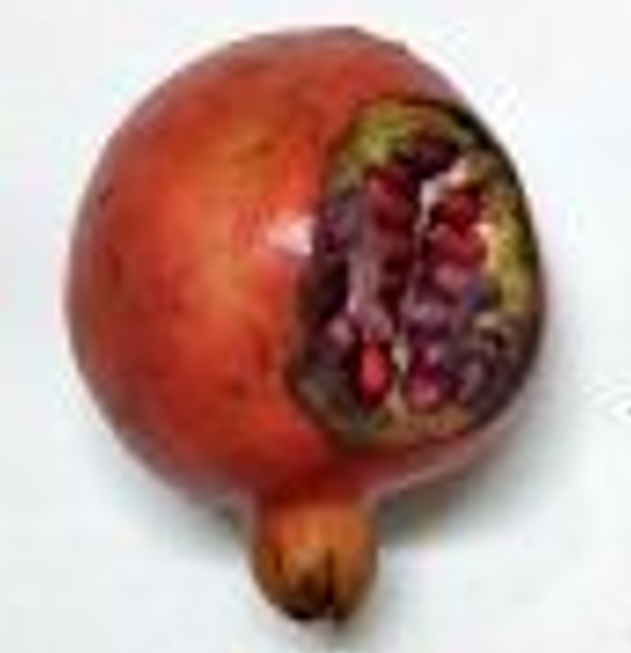pomegranate_C: (64, 27, 547, 634)
